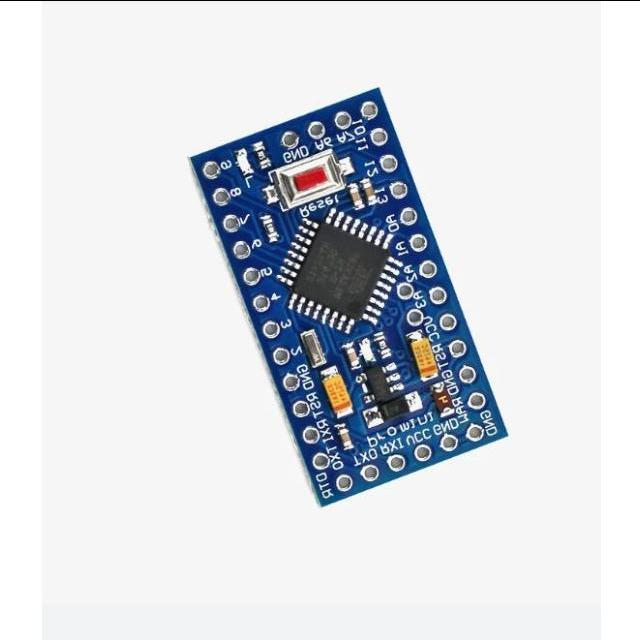Arduino-ProMini: (193, 90, 507, 506)
